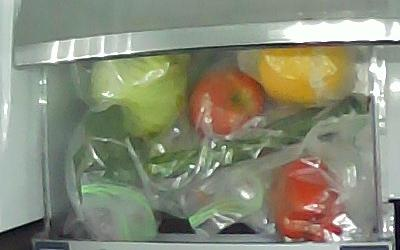apple_vinyl: (187, 68, 266, 137)
broccoli_vinyl: (74, 105, 144, 188)
cucumber_vinyl: (144, 95, 370, 178)
grapefruit_vinyl: (257, 45, 346, 102)
lettuce_vinyl: (90, 52, 187, 136)
paprika_vinyl: (271, 155, 343, 243)
